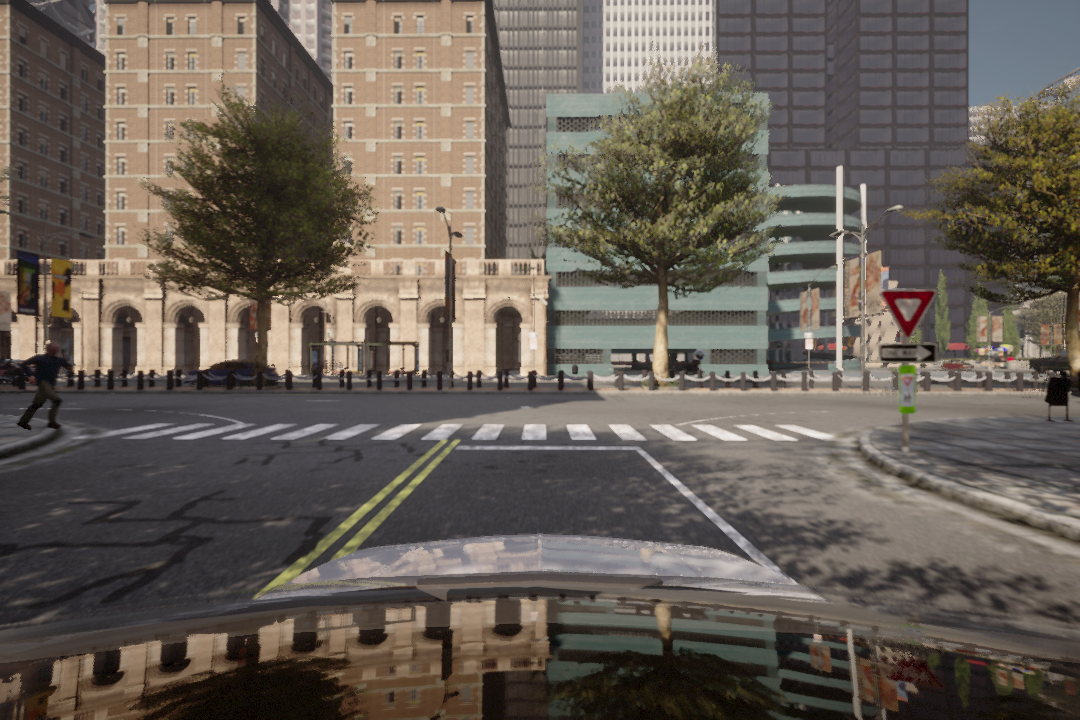walkside: (82, 417, 859, 451)
